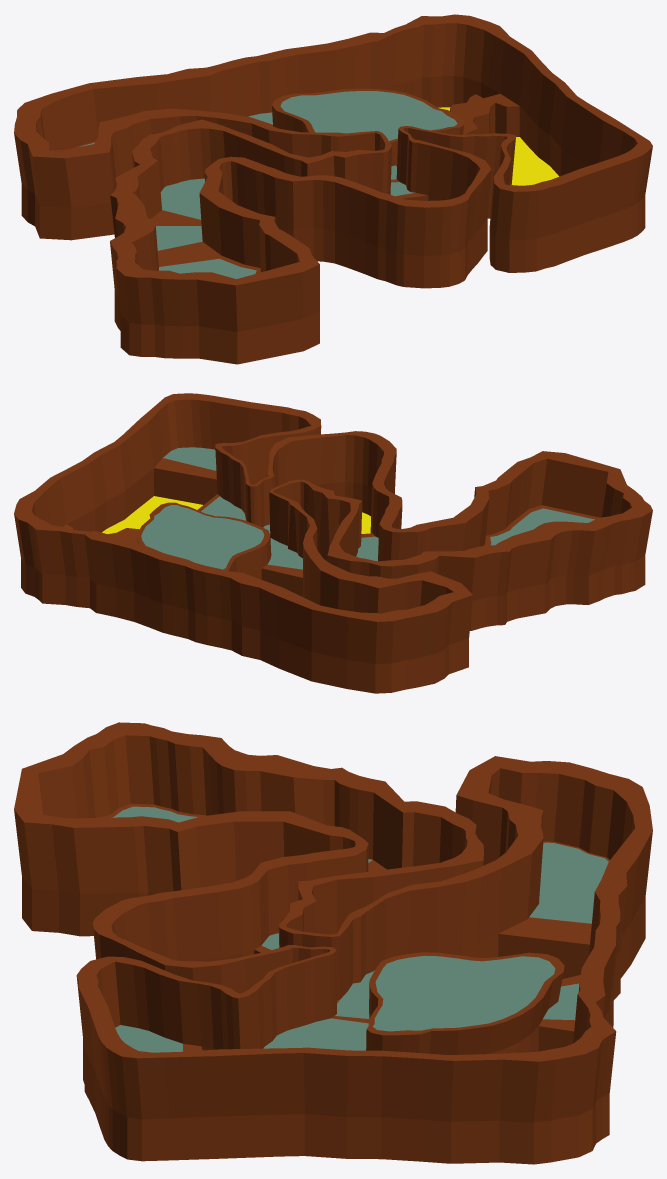
Rendered from Map 3.fbx.
The picture shows the model from 3 angles, top to bottom: view 1: azimuth 30°, elevation 25°; view 2: azimuth 150°, elevation 25°; view 3: azimuth 270°, elevation 25°; orthographic projection. The views are drawn at different scales.
Parts seen in each view (by area): view 1: Map; view 2: Map; view 3: Map.
Boxes of the visible parts, x1,y1,x2,y2 form: Map: [14, 14, 652, 364]; Map: [14, 393, 652, 693]; Map: [14, 722, 652, 1164].
Size of the model in its own units: 22019 by 3225 by 17528.
